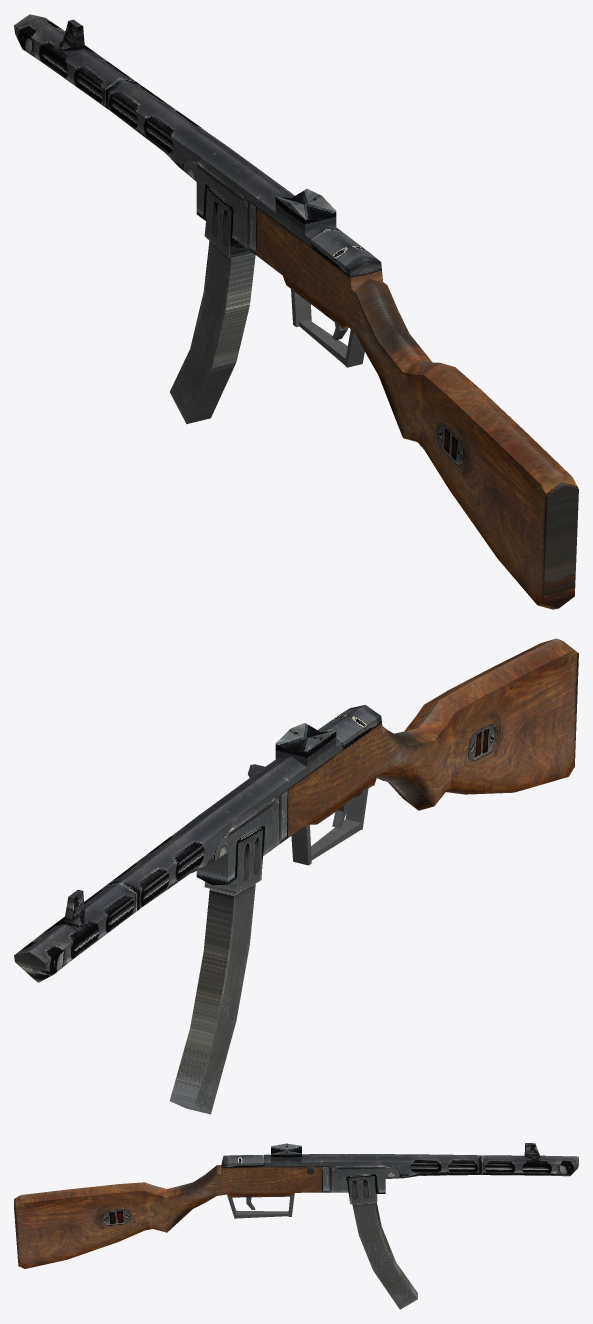
File: ppsh41.glb
3 renders of one model, top to bottom at view 1: azimuth 30°, elevation 25°; view 2: azimuth 150°, elevation 25°; view 3: azimuth 270°, elevation 25°, orthographic. The views are drawn at different scales.
Visible parts, largest first — view 1: gun, mag; view 2: gun, mag; view 3: gun, mag.
Boxes of the visible parts, bbox=[...] form: gun: bbox=[14, 14, 578, 609]; mag: bbox=[170, 241, 255, 424]; gun: bbox=[14, 638, 578, 982]; mag: bbox=[169, 884, 255, 1114]; gun: bbox=[14, 1143, 578, 1268]; mag: bbox=[352, 1202, 417, 1309].
Size of the model in its own units: 0.2467 by 1.53 by 4.82.
Materials: 1 (1 with a texture image).
